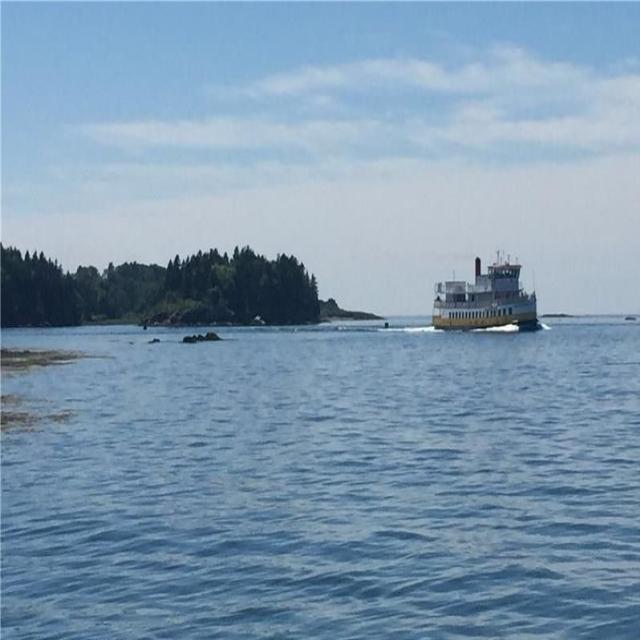passenger ship: (415, 252, 558, 327)
